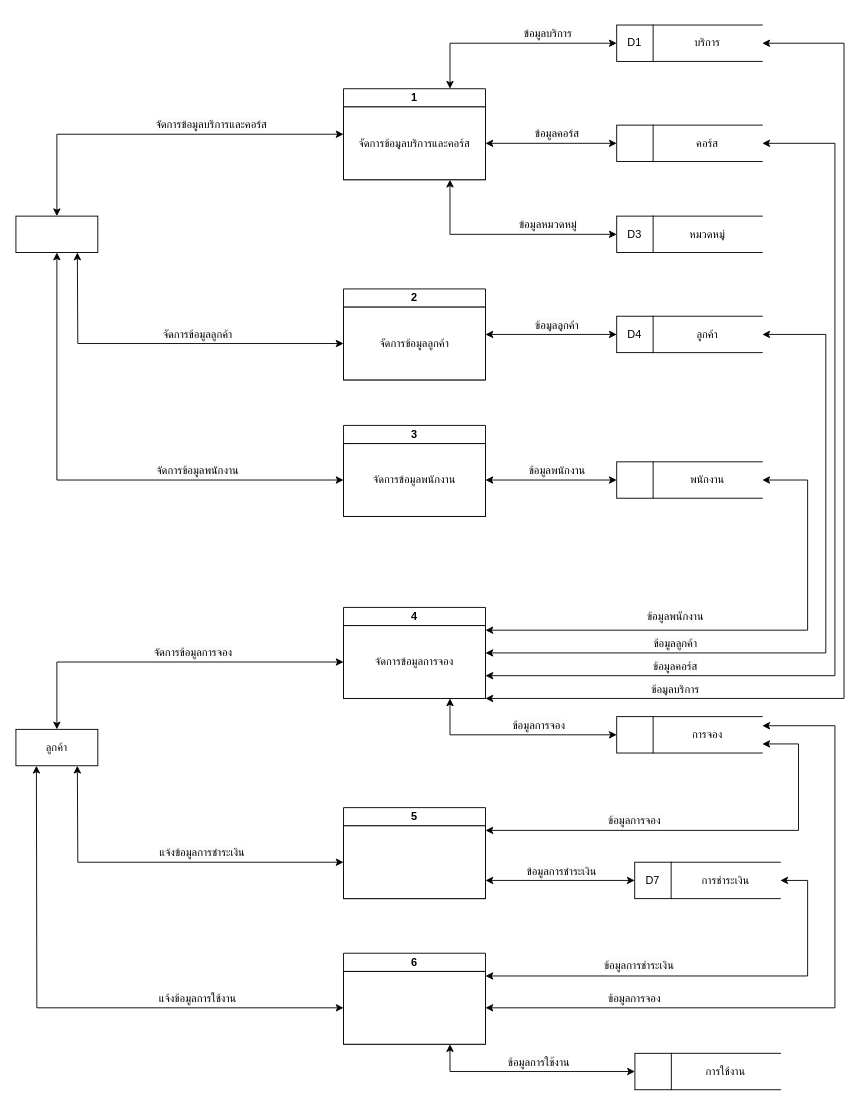
This 868x1106 diagram has some shape labels left out. The shapes that lost their labels are listed below. From the top down, each one's centre as x and y in pixels, then its label:
pixel 634 143: D2
pixel 56 234: ผู้ดูแลระบบ
pixel 634 479: D5
pixel 634 734: D6
pixel 414 862: จัดการข้อมูลการชำระเงิน
pixel 414 1007: จัดการข้อมูลการใช้งาน
pixel 652 1071: D8
